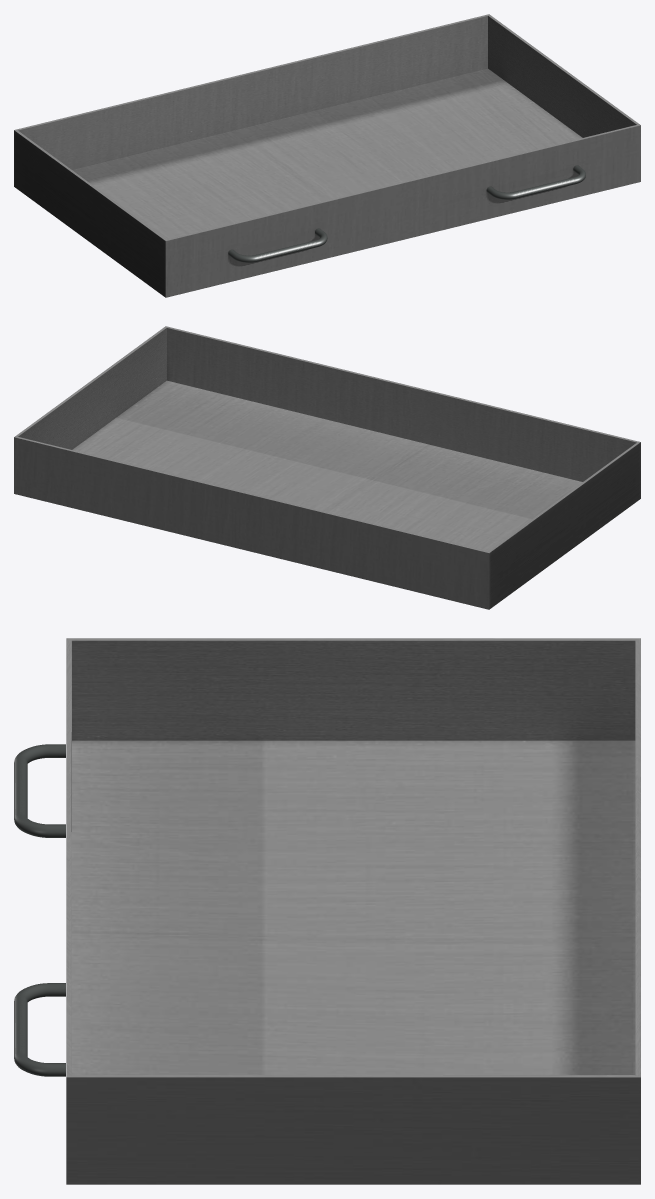
Rendered from drawer_f.gltf.
3 renders of one model, top to bottom at view 1: azimuth 30°, elevation 25°; view 2: azimuth 150°, elevation 25°; view 3: azimuth 270°, elevation 25°, orthographic. The views are drawn at different scales.
Visible parts, largest first — view 1: drawer_f, handle_f2, handle_f1; view 2: drawer_f; view 3: drawer_f, handle_f1, handle_f2.
Boxes of the visible parts, x1,y1,x2,y2 form: drawer_f: (14, 14, 640, 297); handle_f2: (486, 165, 585, 199); handle_f1: (228, 228, 327, 262); drawer_f: (14, 326, 640, 609); drawer_f: (66, 638, 640, 1184); handle_f1: (14, 744, 65, 837); handle_f2: (14, 983, 65, 1076).
Size of the model in its own units: 3.2 by 0.3649 by 1.93.
Materials: 2 (2 with a texture image).
